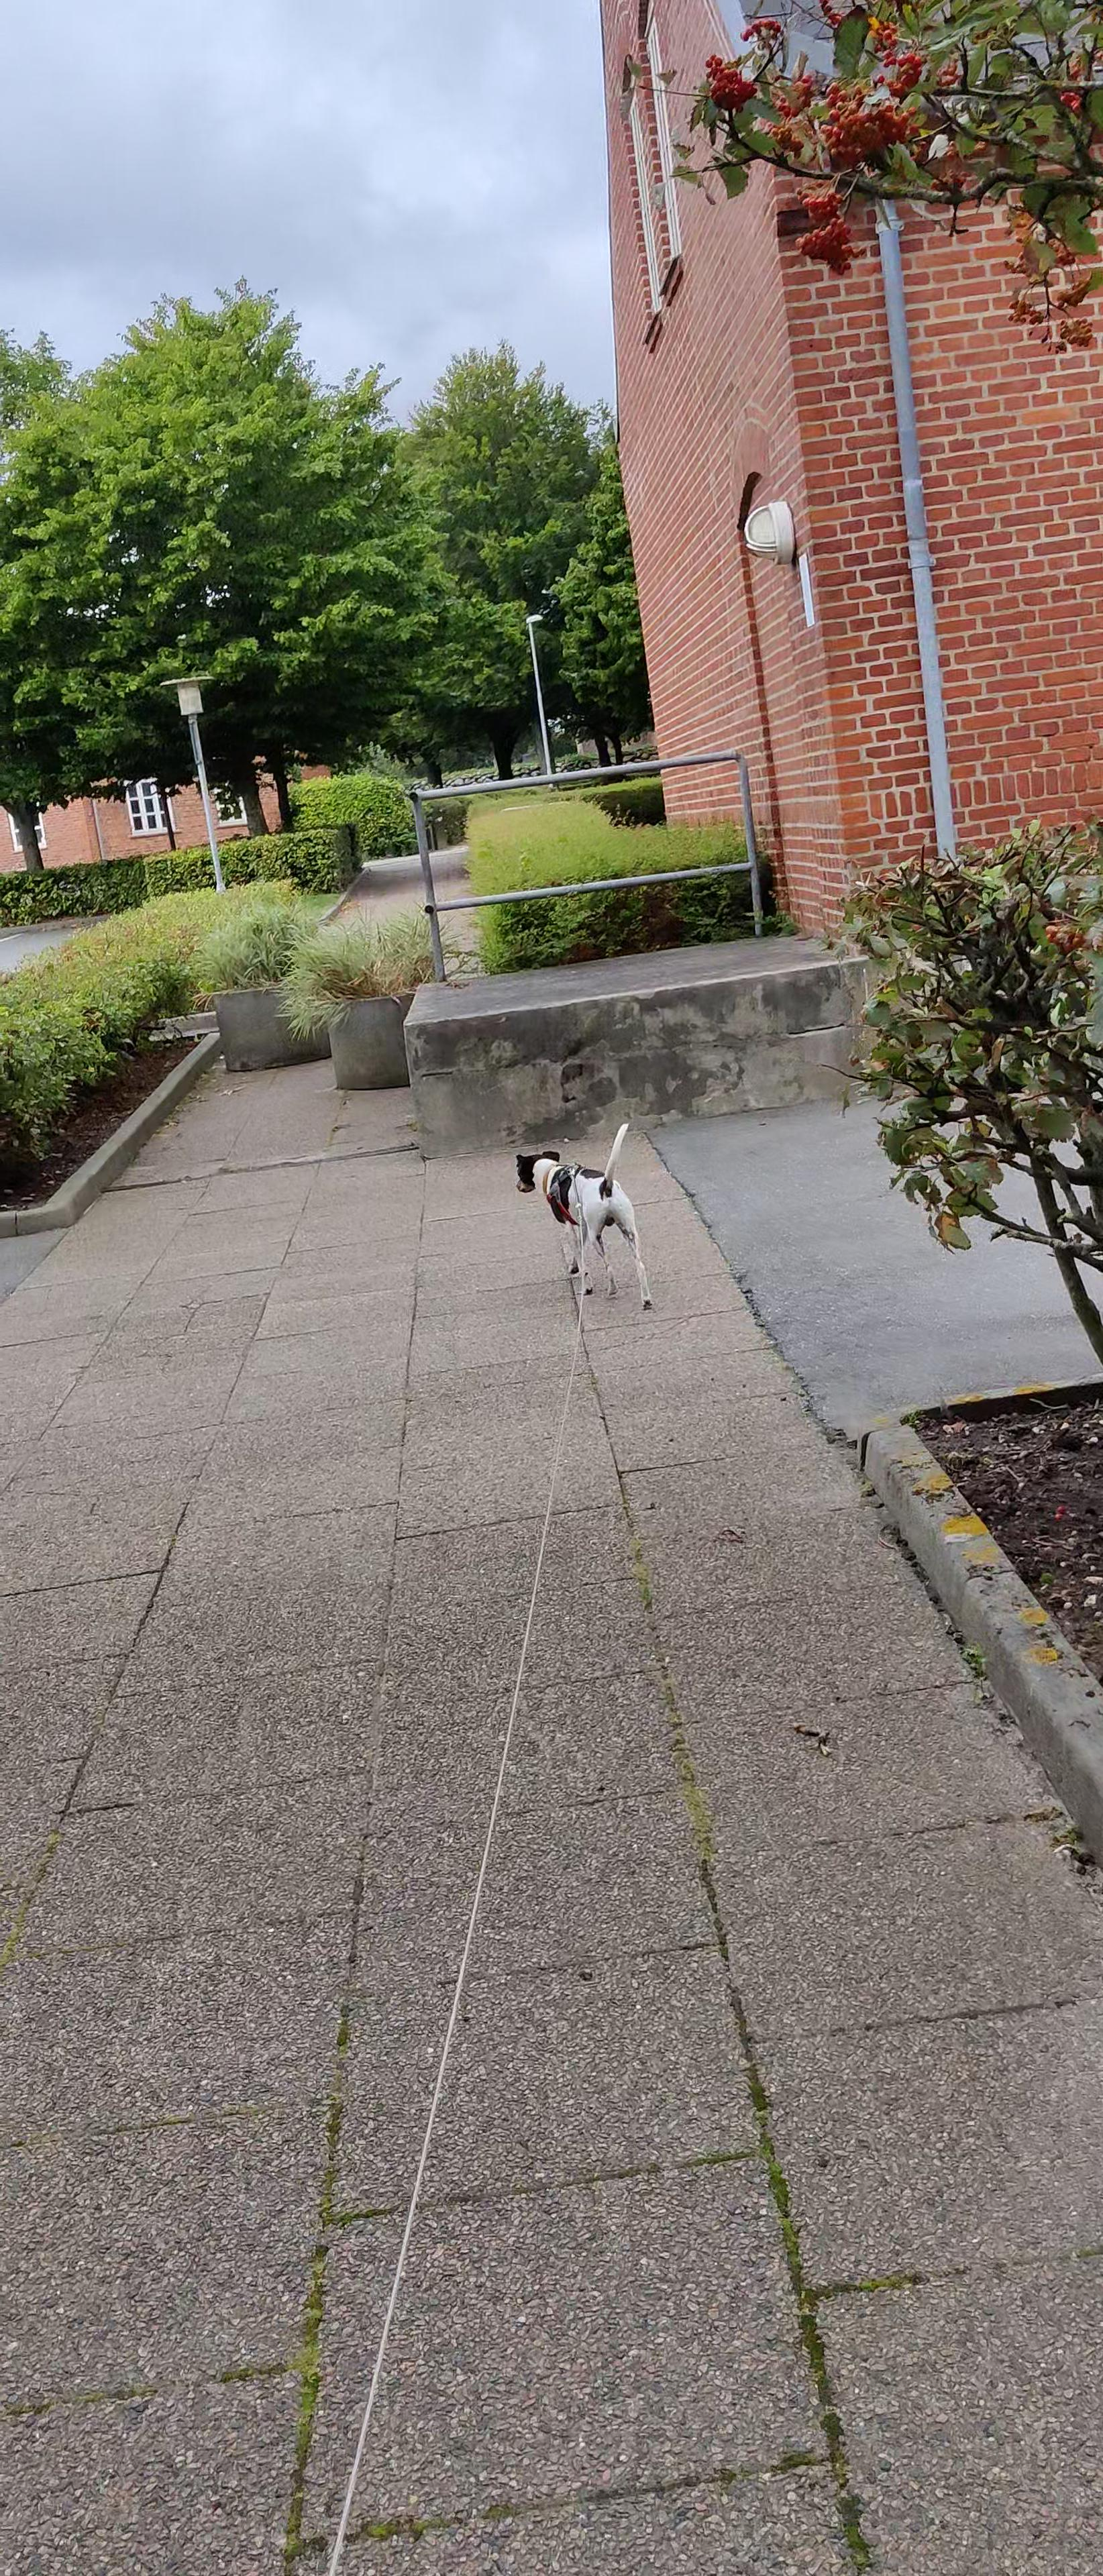Dog: (505, 1112, 659, 1313)
